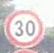limite 30: (2, 9, 47, 48)
